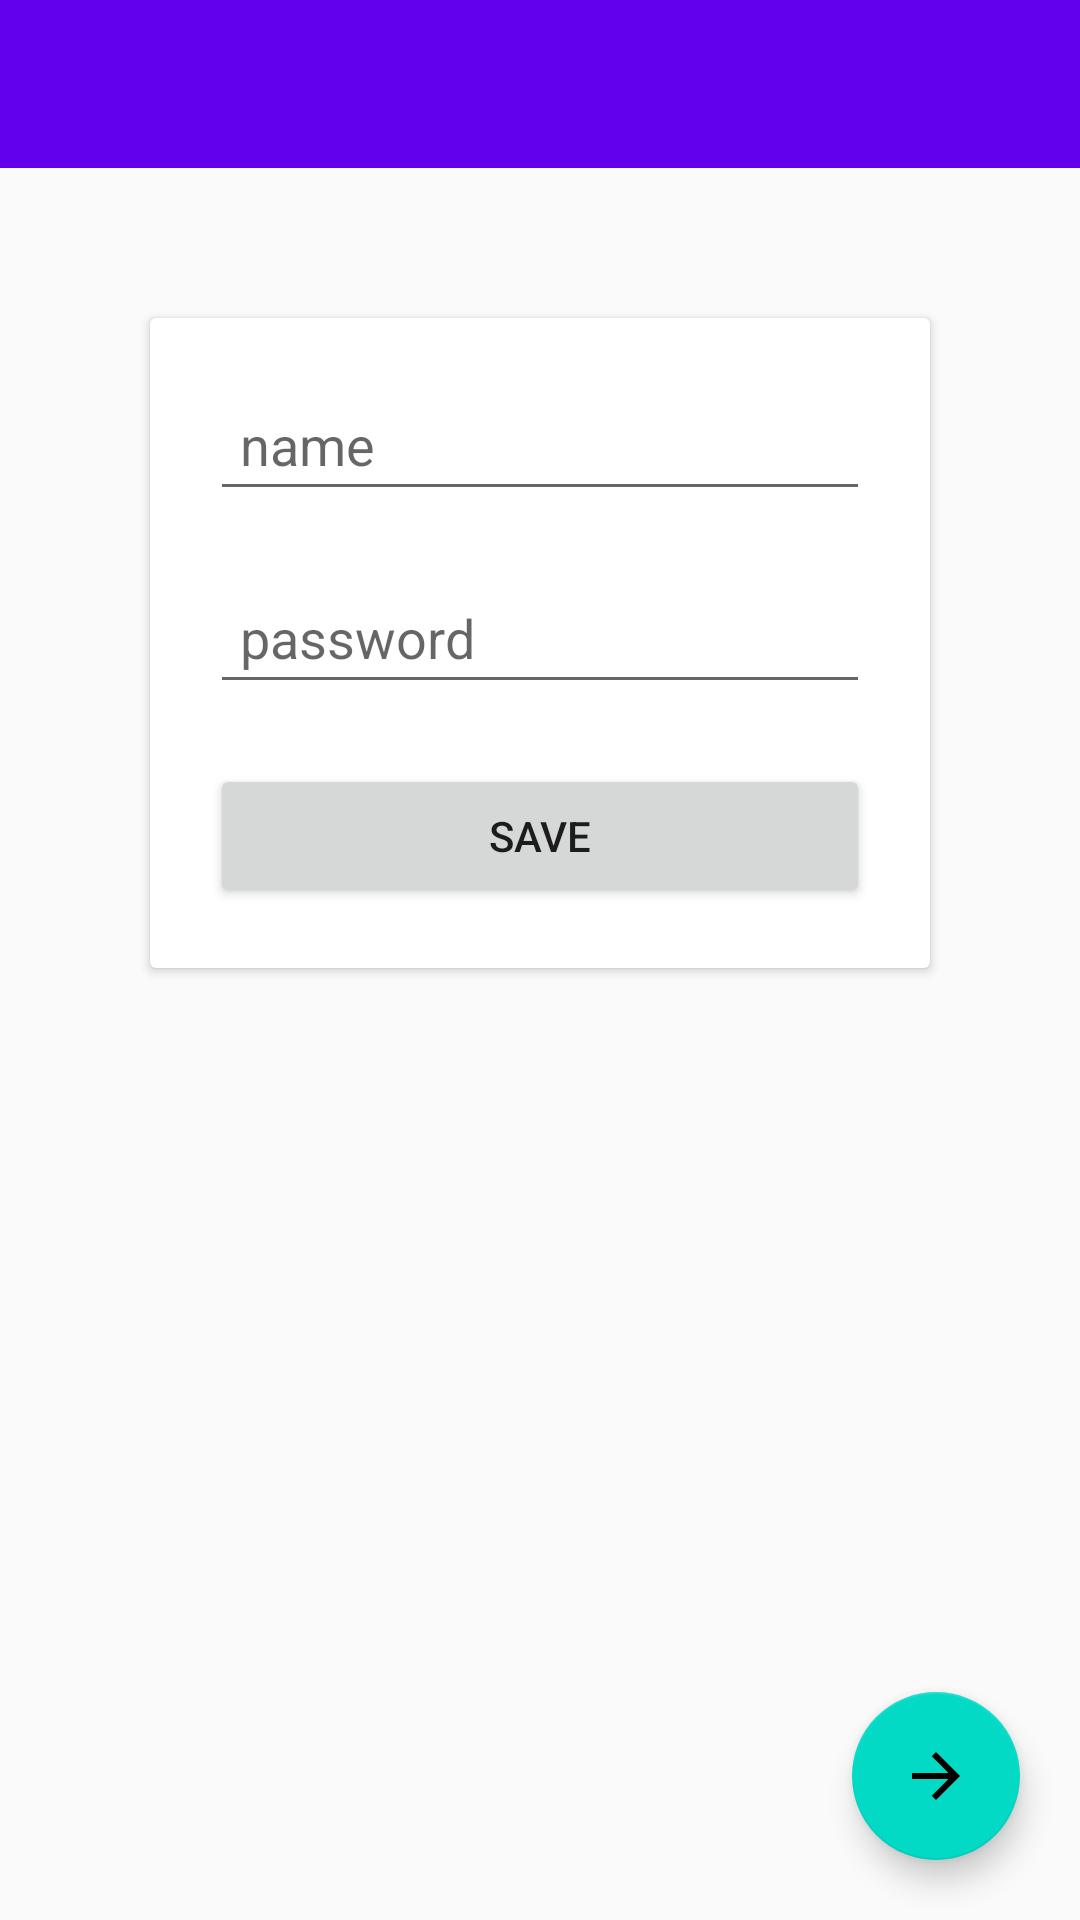

Point at icon controls on the screen. Image size 1080×1920, points as (x,y).
arrow forward: (936,1776)
